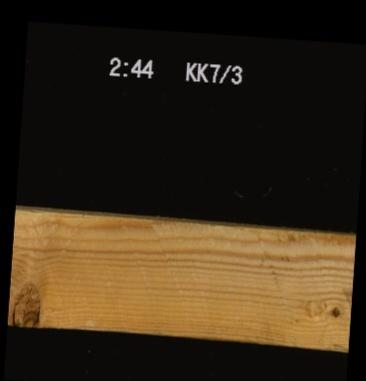dry_knot: (327, 300, 341, 319)
edge_knot: (7, 278, 41, 325)
